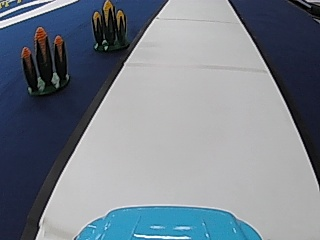corn: (18, 25, 74, 95), (87, 1, 134, 53)
